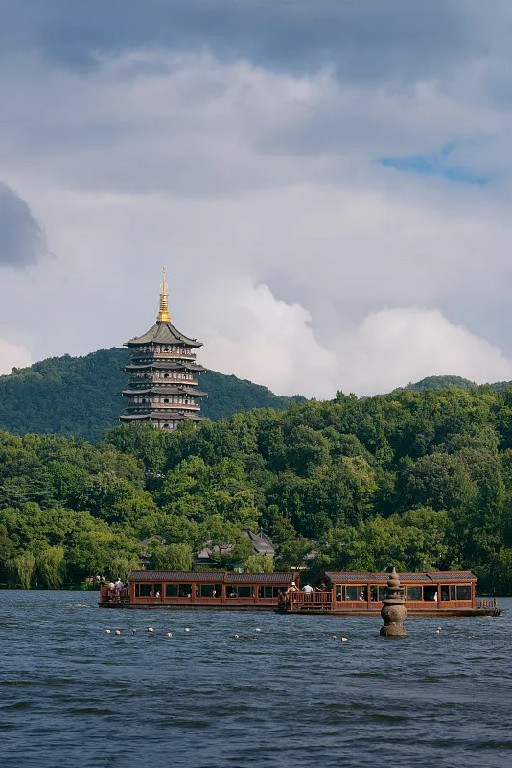Leifeng: (118, 265, 210, 435)
